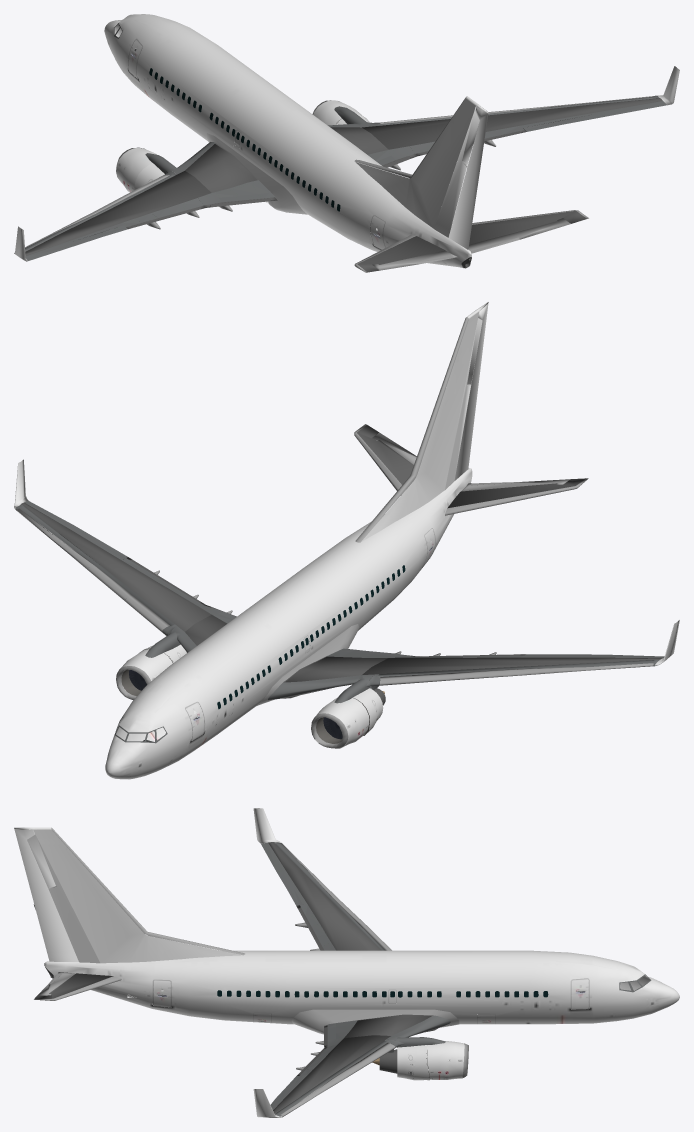
3 views of the same model, one above another, from view 1: azimuth 30°, elevation 25°; view 2: azimuth 150°, elevation 25°; view 3: azimuth 270°, elevation 25° (orthographic). The views are drawn at different scales.
Visible parts, largest first — view 1: rootNode; view 2: rootNode; view 3: rootNode.
Boxes of the visible parts, x1=… form: rootNode: x1=14, y1=14, x2=679, y2=272; rootNode: x1=14, y1=302, x2=679, y2=779; rootNode: x1=14, y1=808, x2=679, y2=1117.
Bounding box in the file's own units: 34.85 × 12.08 × 34.93.
5 materials, 5 textured.
